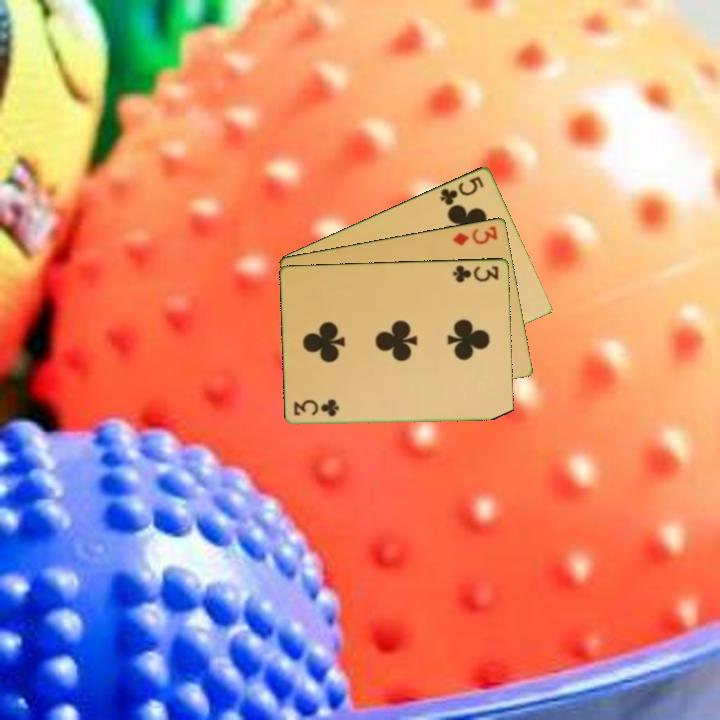3c: (449, 262, 502, 285), (290, 399, 342, 419)
3d: (449, 222, 501, 248)
5c: (436, 172, 487, 208)
